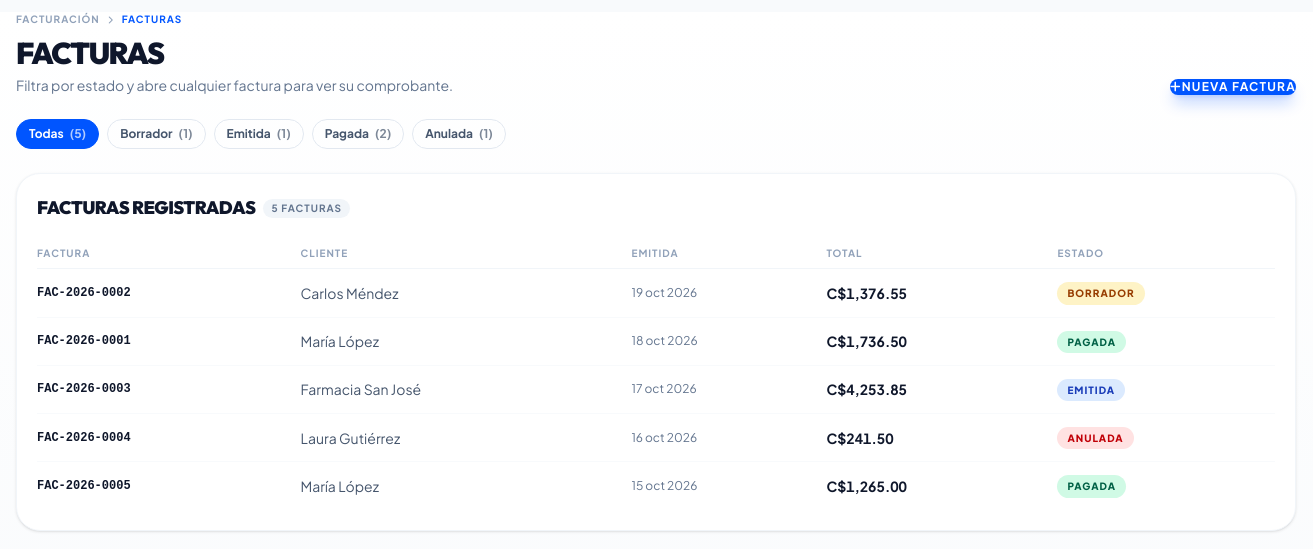
Test case: InvoicesComponent › debe limpiar el filtro al elegir "Todas"
Click the button with test id "billing-filter-pagada" at (358, 134), box [312,119,404,149]
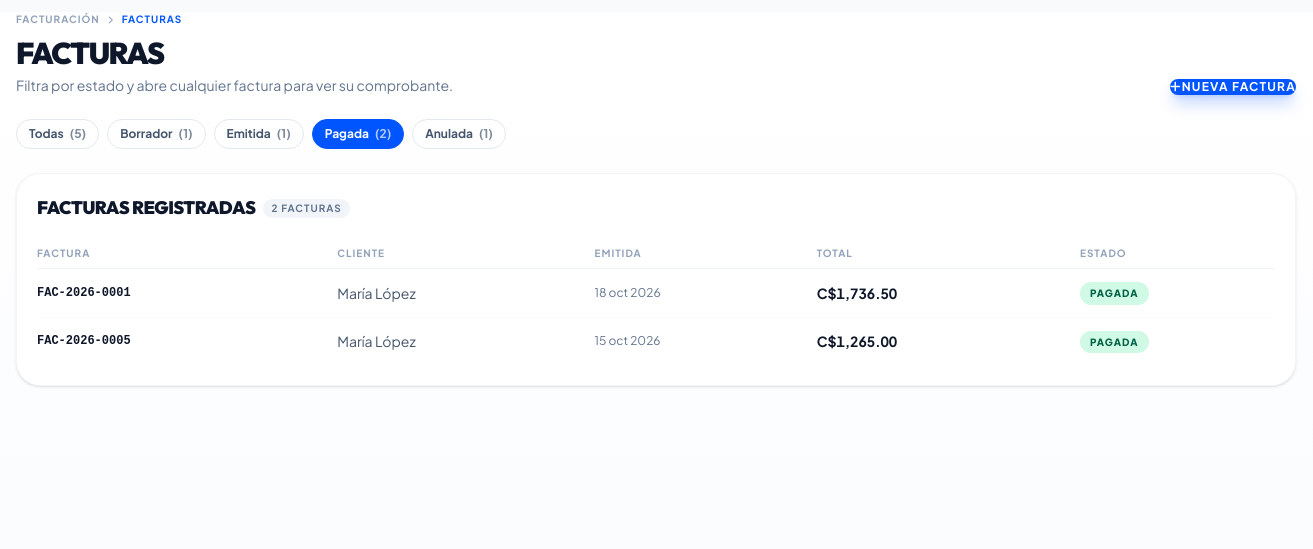
expect the number of rows with test id "billing-invoice-row" is 2: met, box [37,269,1275,317]; [37,317,1275,365]
Click the button with test id "billing-filter-all" at (58, 134), box [16,119,99,149]
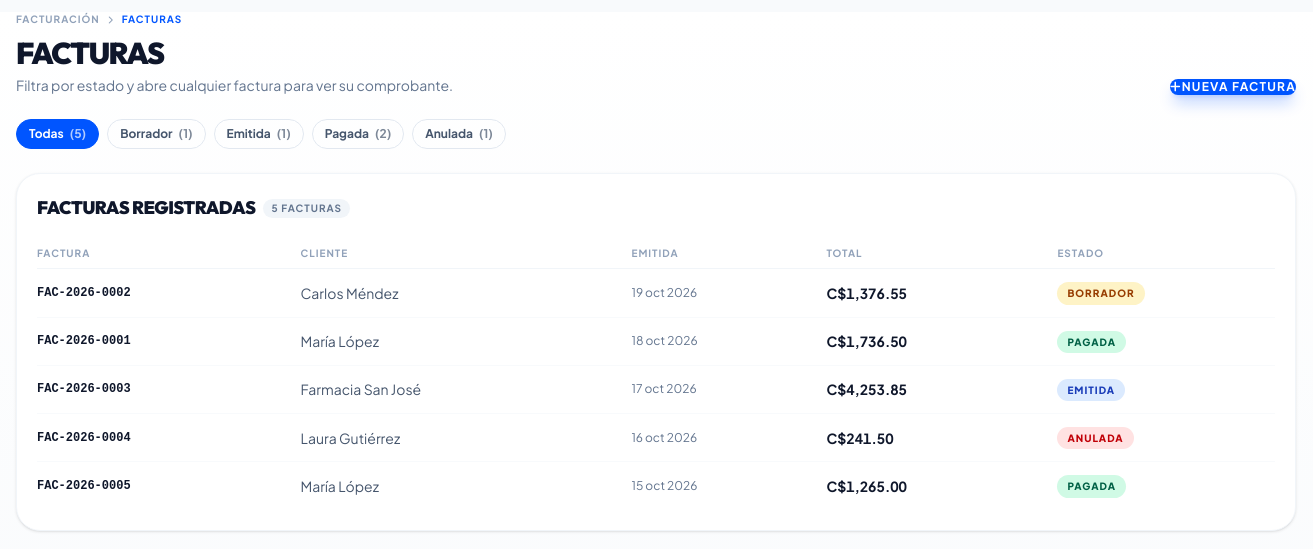
expect the number of rows with test id "billing-invoice-row" is 5: met, box [37,269,1275,317]; [37,317,1275,365]; [37,365,1275,414]; [37,414,1275,462]; [37,462,1275,510]
